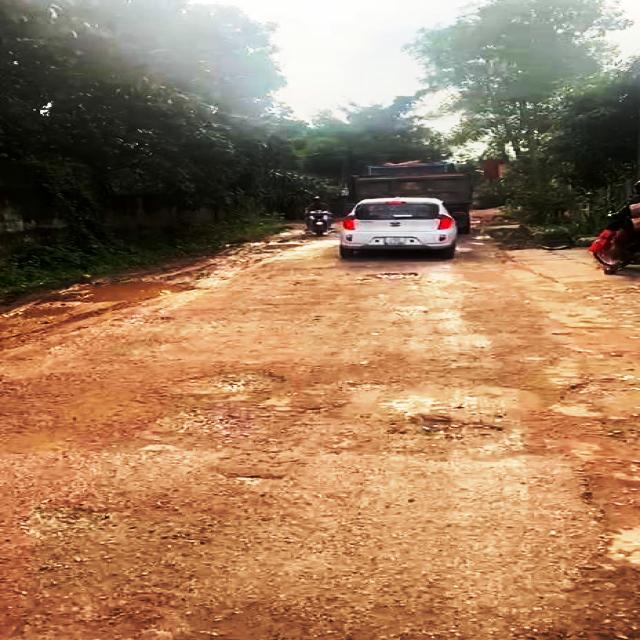pothole: (536, 332, 640, 640), (114, 593, 310, 640), (372, 414, 507, 452), (162, 367, 296, 396), (222, 462, 297, 491)
